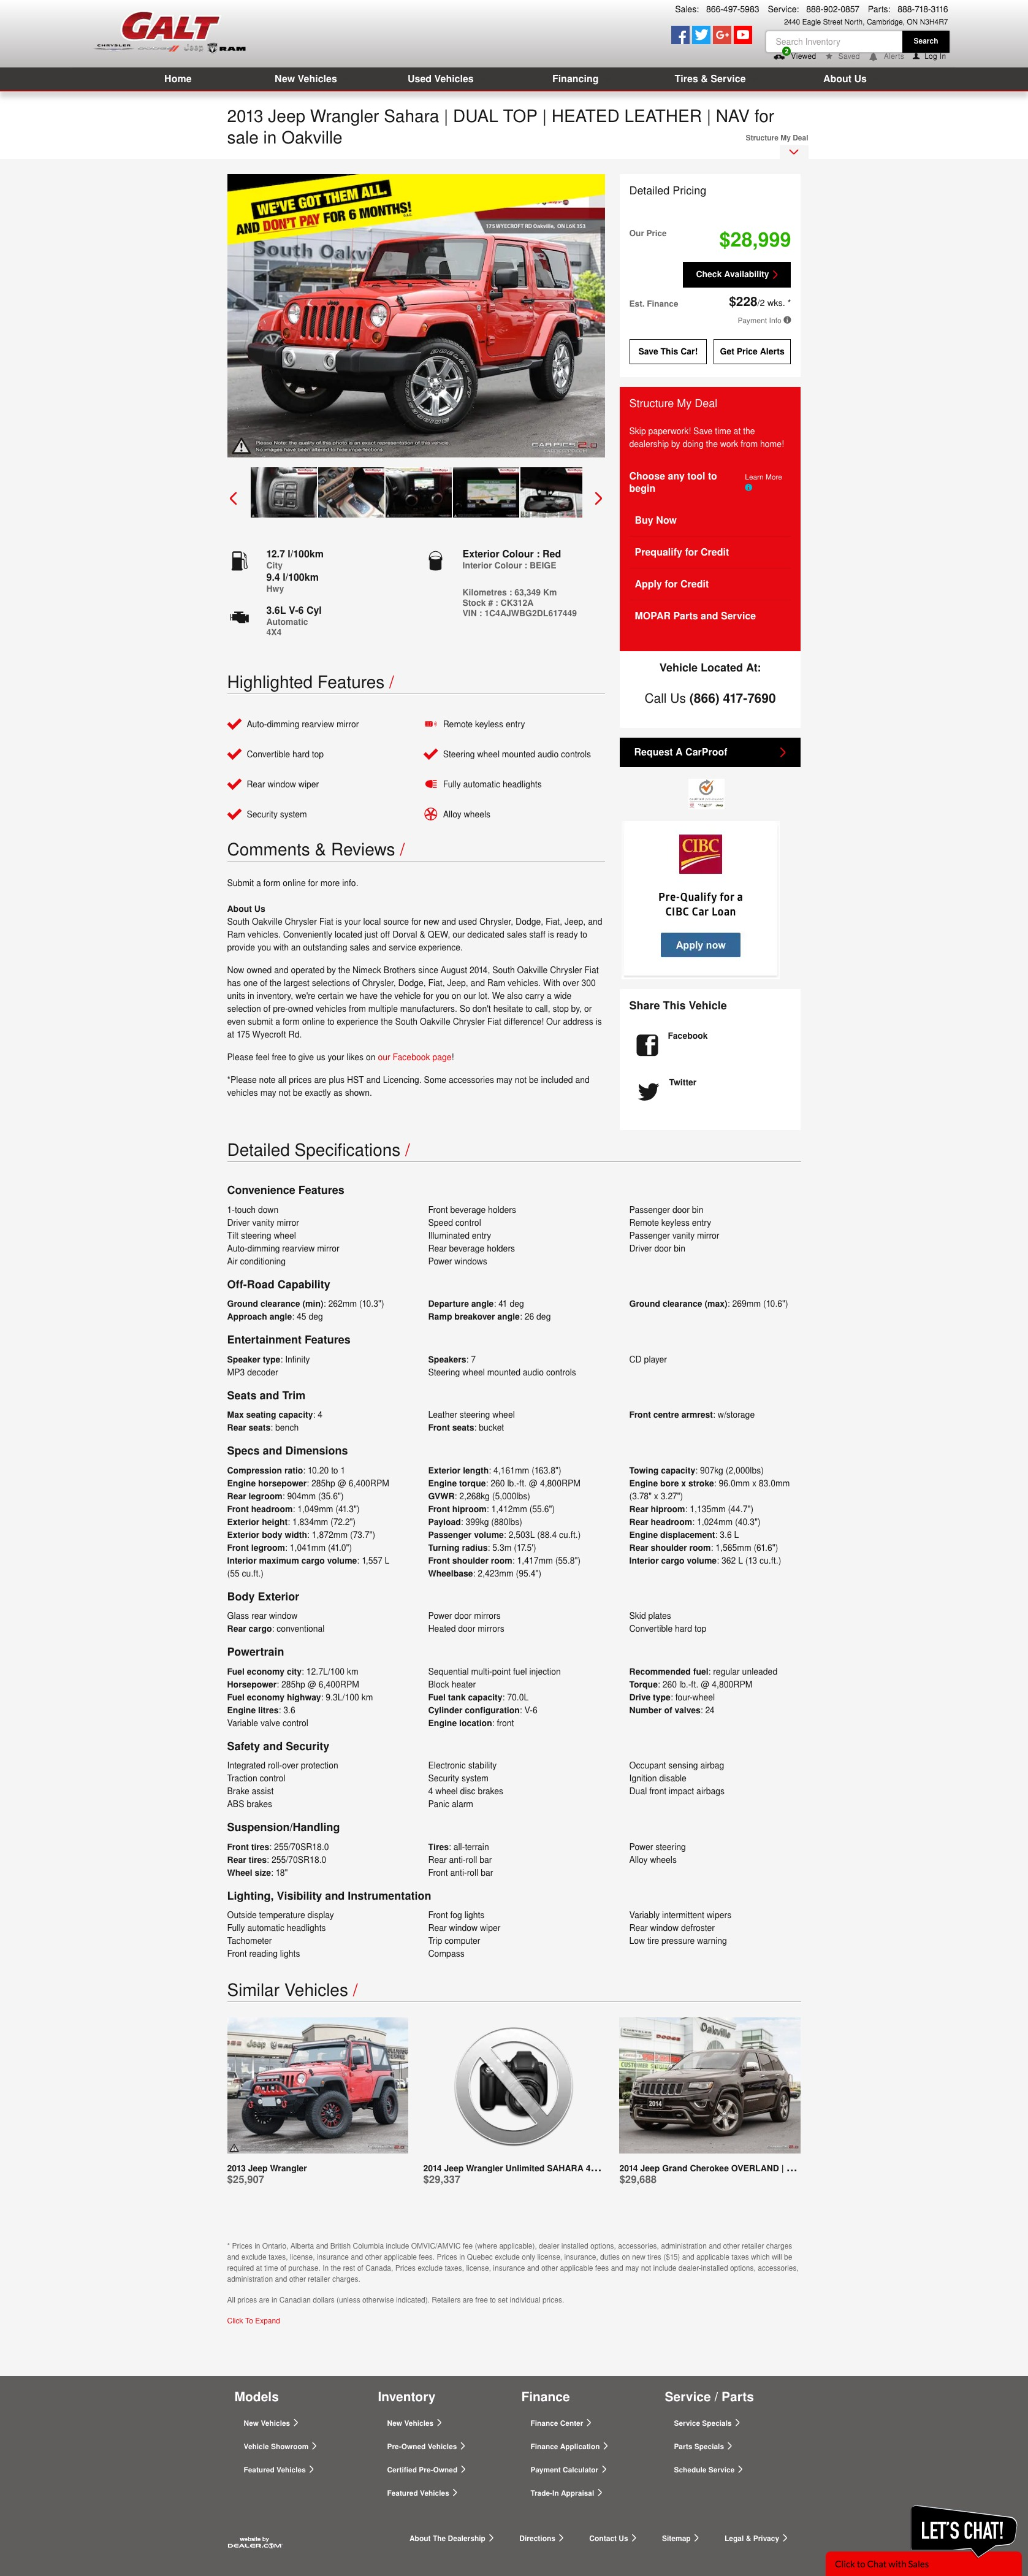car: (594, 491, 603, 506)
